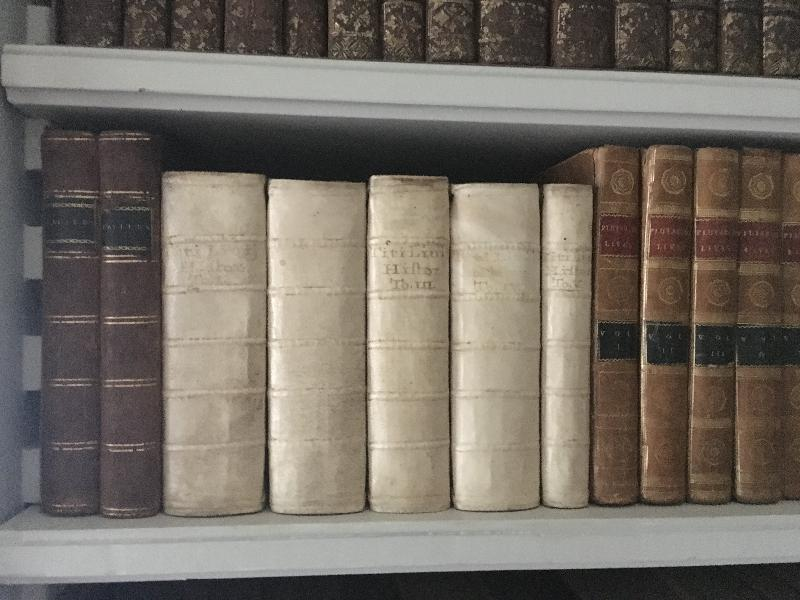Kk4-1_2: (39, 123, 159, 522)
Kk4-3_7: (164, 160, 593, 518)
Kk4-8_13: (596, 141, 800, 514)
